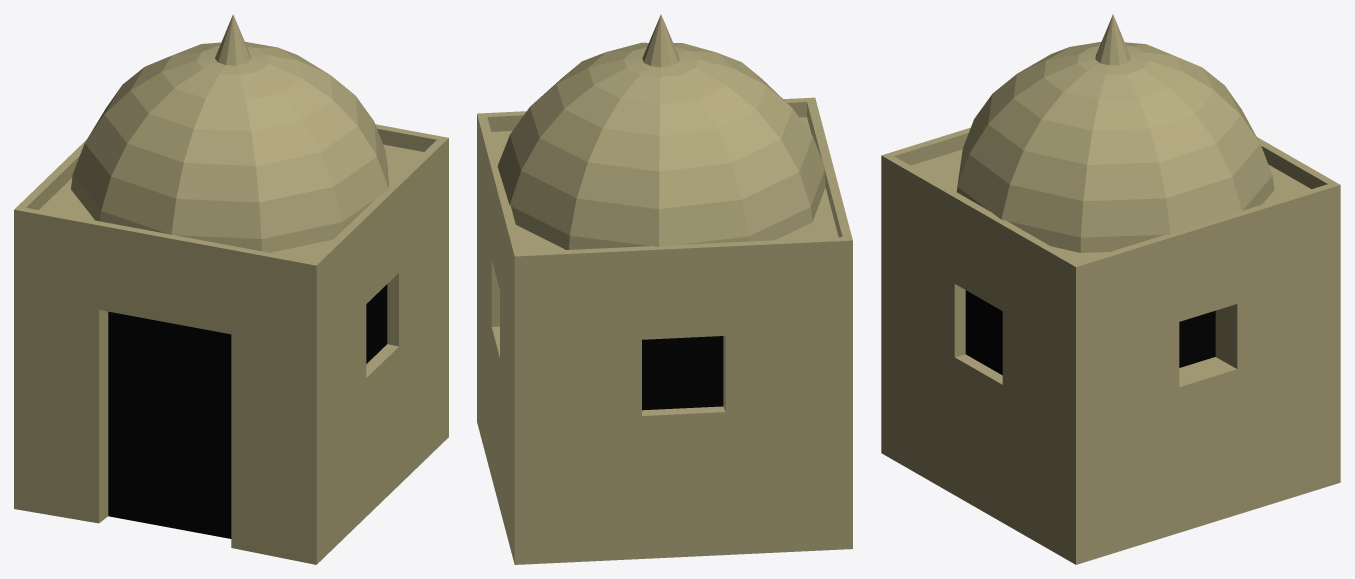
The model's file is _ijhuis 2.fbx.
3 renders of one model, left to right at view 1: azimuth 30°, elevation 25°; view 2: azimuth 150°, elevation 25°; view 3: azimuth 270°, elevation 25°, orthographic. The views are drawn at different scales.
Visible parts, largest first — view 1: pCube168; view 2: pCube168; view 3: pCube168.
Part boxes in pixels (x1=…): pCube168: x1=14, y1=14, x2=448, y2=564; pCube168: x1=477, y1=14, x2=852, y2=564; pCube168: x1=881, y1=14, x2=1340, y2=564.
Size of the model in its own units: 506 by 554 by 506.
